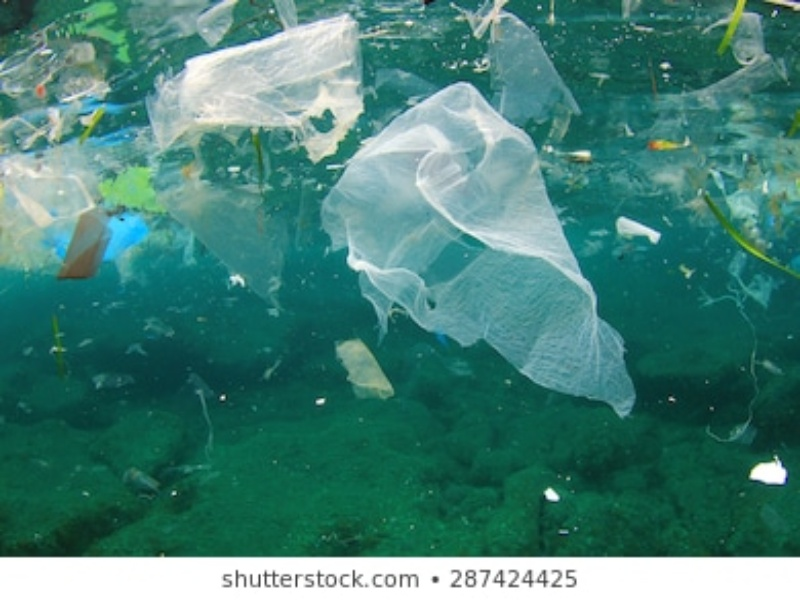plastic-bag: (323, 80, 651, 417), (146, 15, 361, 162)
